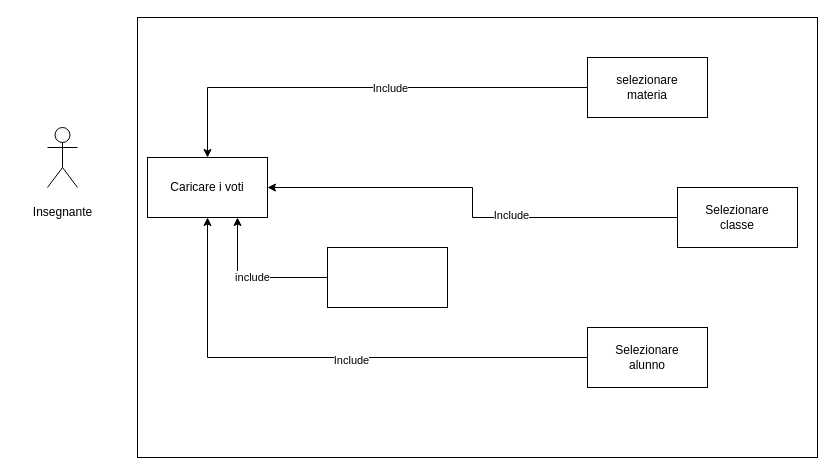
Some shapes in this 835 by 475 pixel diagram are drawn without their labels. The box of each missing label's shape, as (x1, y1, x2, y2) in pixels:
Actor: (46, 126, 78, 188)
registazione: (326, 246, 448, 308)
